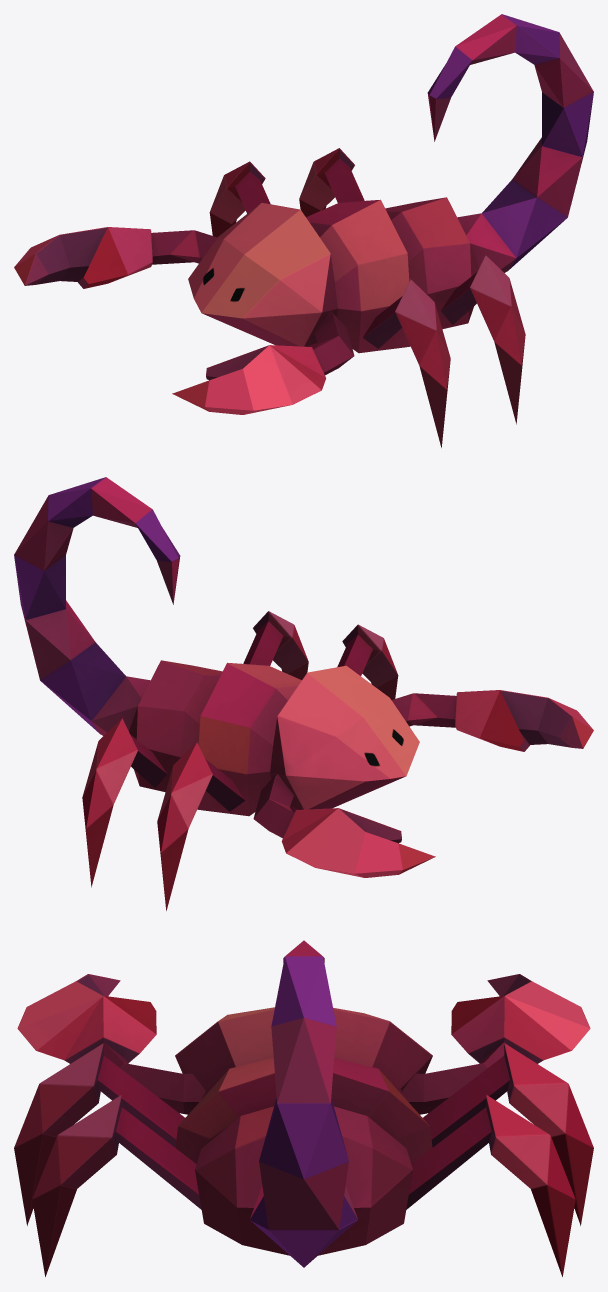
File: salta3.glb
3 views of the same model, one above another, from view 1: azimuth 30°, elevation 25°; view 2: azimuth 150°, elevation 25°; view 3: azimuth 270°, elevation 25° (orthographic). The views are drawn at different scales.
Parts seen in each view (by area): view 1: node_id462; view 2: node_id462; view 3: node_id462.
Part boxes in pixels (<box>): node_id462: <box>14,14,593,447</box>; node_id462: <box>14,477,593,910</box>; node_id462: <box>14,940,593,1276</box>.
Size of the model in its own units: 0.1302 by 0.0778 by 0.1075.
1 material, 1 textured.
